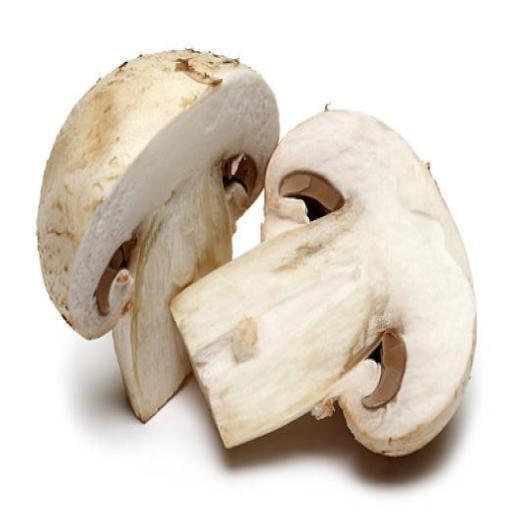mushroom: (0, 8, 306, 434), (0, 0, 1, 1)
